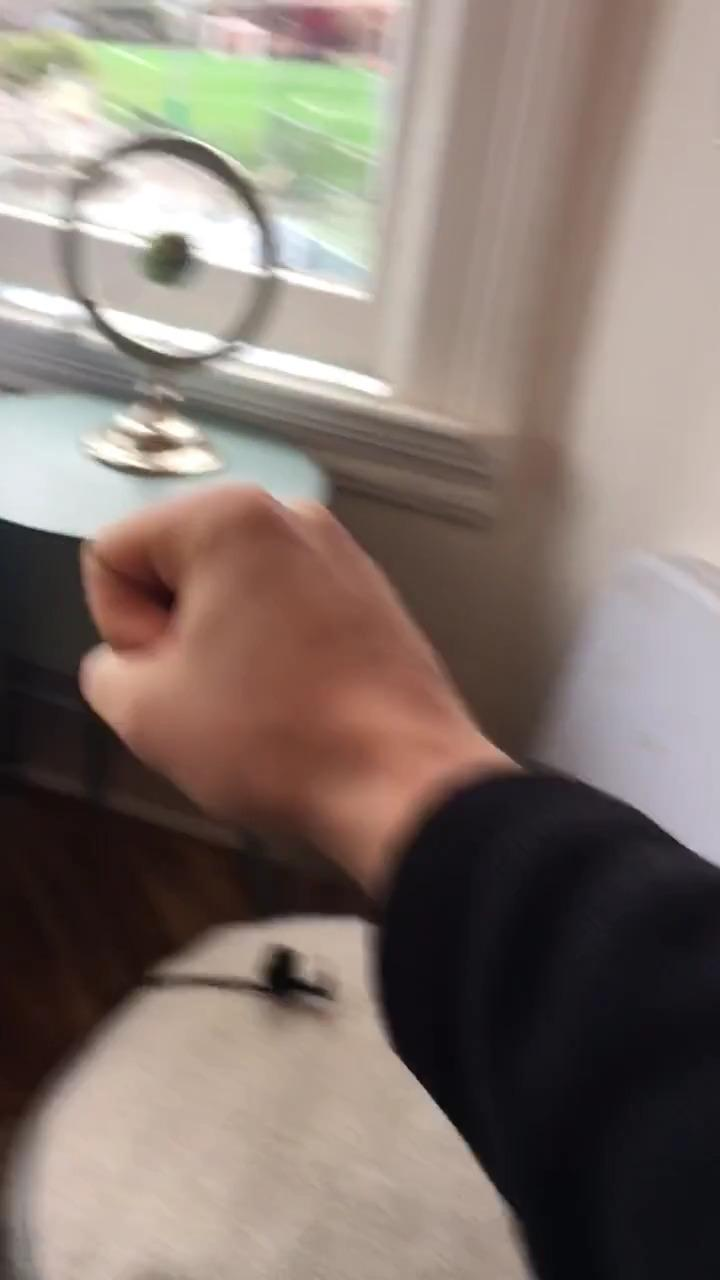Rock: (68, 482, 455, 841)
